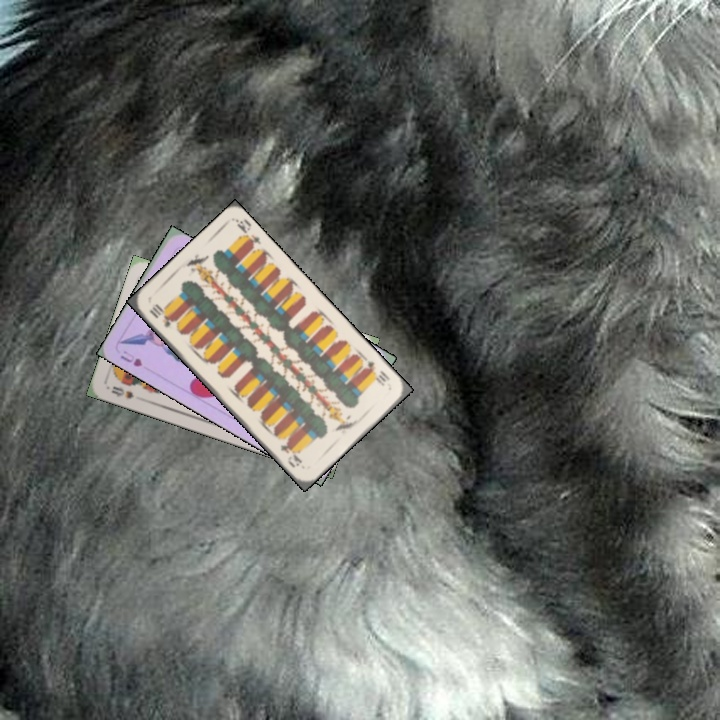E10: (145, 299, 180, 330), (360, 357, 393, 389)
HU: (116, 346, 145, 369)
S8: (107, 382, 136, 401)
